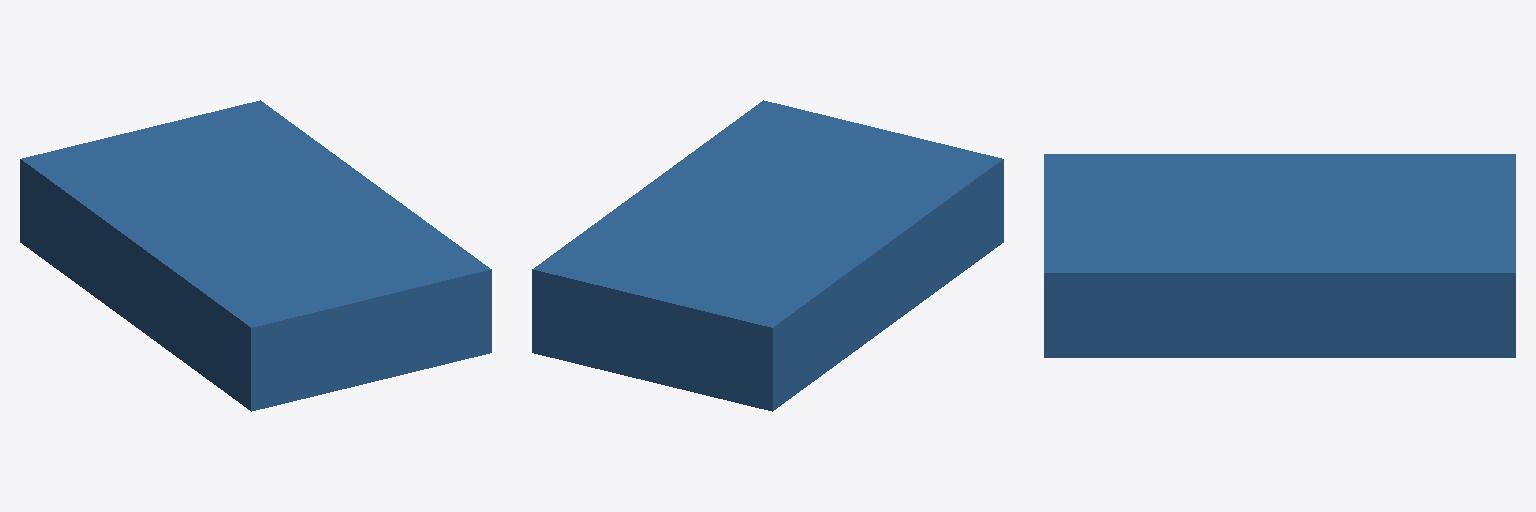
The robot description file, URDF, robot "folding_support_block":
<?xml version="1.0"?>
<robot name="folding_support_block">
  <!-- The root frame lies at the center of the bottom surface. -->
  <material name="support_blue">
    <color rgba="0.27 0.48 0.68 1"/>
  </material>
  <link name="support_block">
    <inertial>
      <origin xyz="0 0 0.02" rpy="0 0 0"/>
      <mass value="1.92"/>
      <inertia ixx="0.006656" iyy="0.00256" izz="0.008704" ixy="0" ixz="0" iyz="0"/>
    </inertial>
    <visual>
      <origin xyz="0 0 0.02" rpy="0 0 0"/>
      <geometry>
        <box size="0.12 0.20 0.04"/>
      </geometry>
      <material name="support_blue"/>
    </visual>
    <collision>
      <origin xyz="0 0 0.02" rpy="0 0 0"/>
      <geometry>
        <box size="0.12 0.20 0.04"/>
      </geometry>
    </collision>
  </link>
</robot>

--- What the picture shows (computed from the rendered views, not written in the file) ---
The picture shows the robot from 3 angles, left to right: view 1: azimuth 30°, elevation 25°; view 2: azimuth 150°, elevation 25°; view 3: azimuth 270°, elevation 25°; orthographic projection.
Model folding_support_block with 1 links and 0 joints (none), rooted at support_block, posed every joint at zero.
Links seen in each view (by area): view 1: support_block; view 2: support_block; view 3: support_block.
Link boxes in pixels (box(x1,y1,x2,y2)): support_block: box(20, 100, 491, 411); support_block: box(532, 100, 1003, 411); support_block: box(1044, 154, 1515, 357).
Bounding box of the posed robot: 0.12 × 0.2 × 0.04 m (x, y, z).
Geometry: primitives only (box / cylinder / sphere), no mesh files.
